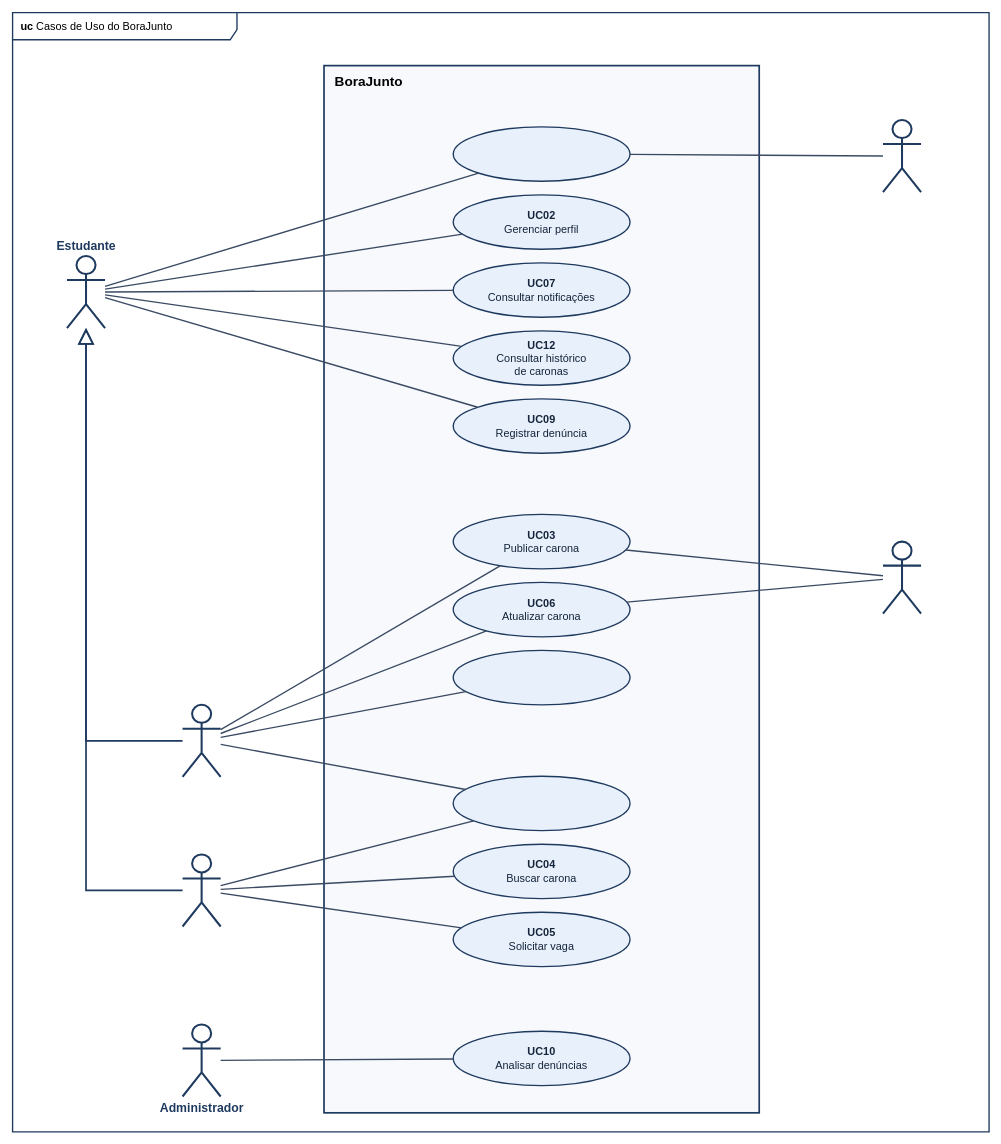
This 1001x1144 diagram has some shape labels left out. The shapes that lost their labels are listed below. From the top down, each one's centre as x and y in pixels, then its label:
the point at 541,154: UC01 Autenticar estudante
the point at 902,156: SUAP
the point at 902,577: Google Maps
the point at 541,677: UC11 Responder solicitações
the point at 201,740: Motorista
the point at 541,803: UC08 Avaliar participante
the point at 201,890: Passageiro
